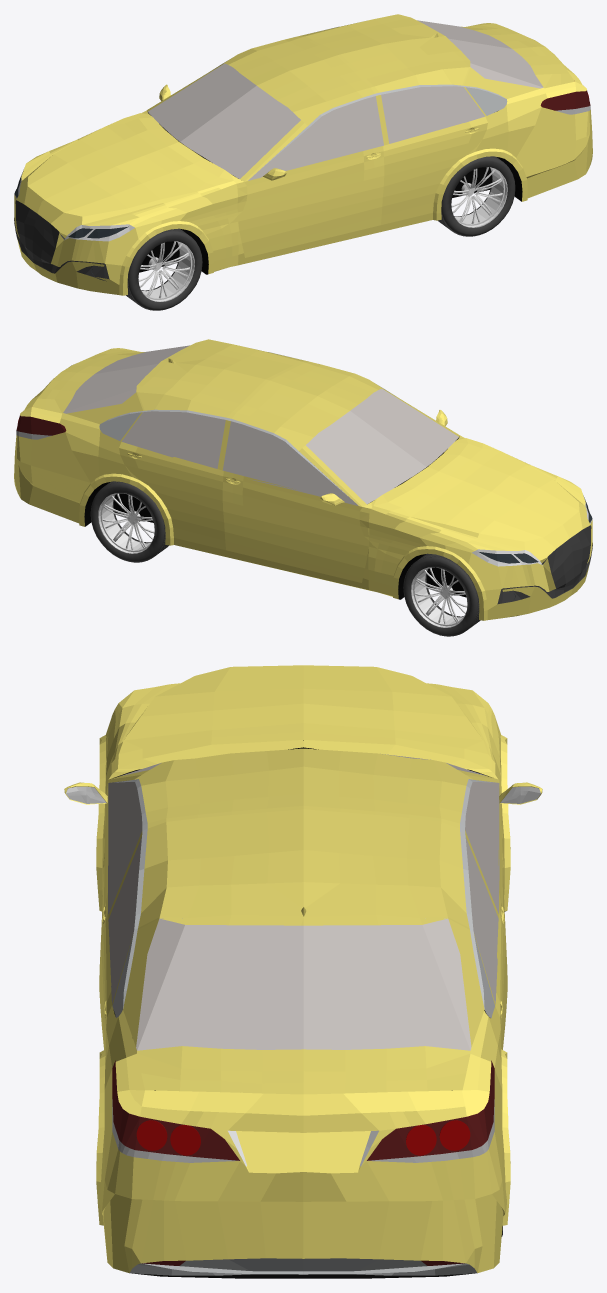
The model's file is new_toyota_crown.fbx.
3 renders of one model, top to bottom at view 1: azimuth 30°, elevation 25°; view 2: azimuth 150°, elevation 25°; view 3: azimuth 270°, elevation 25°, orthographic. The views are drawn at different scales.
Visible parts, largest first — view 1: 平面.001, 平面, タイや端っこ.003, タイや端っこ.004, 外側リム.002, 外側リム.003, リム.003, リム.002; view 2: 平面.001, 平面, タイや端っこ.002, タイや端っこ.001, 外側リム, 外側リム.001, リム.001, リム; view 3: 平面, 平面.001.
Part boxes in pixels (box(x1,y1,x2,y2)): 平面.001: box(14, 23, 592, 295); 平面: box(146, 14, 574, 181); タイや端っこ.003: box(128, 231, 202, 310); タイや端っこ.004: box(441, 156, 515, 236); 外側リム.002: box(454, 167, 507, 227); 外側リム.003: box(141, 241, 194, 301); リム.003: box(138, 241, 189, 298); リム.002: box(451, 167, 502, 223); 平面.001: box(14, 348, 592, 620); 平面: box(32, 339, 459, 506); タイや端っこ.002: box(403, 557, 480, 636); タイや端っこ.001: box(90, 482, 164, 562); 外側リム: box(411, 567, 467, 627); 外側リム.001: box(98, 493, 152, 553); リム.001: box(103, 493, 154, 550); リム: box(415, 568, 467, 624); 平面: box(108, 748, 499, 1094); 平面.001: box(64, 665, 542, 1278).
Size of the model in its own units: 1689 by 518 by 664.
